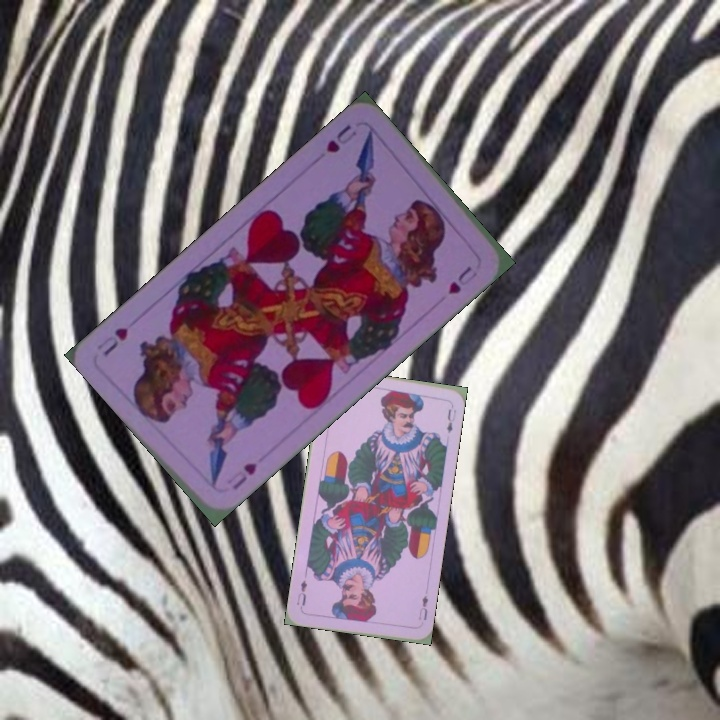EU: (414, 591, 431, 623)
HU: (322, 120, 359, 156), (223, 458, 260, 493)
